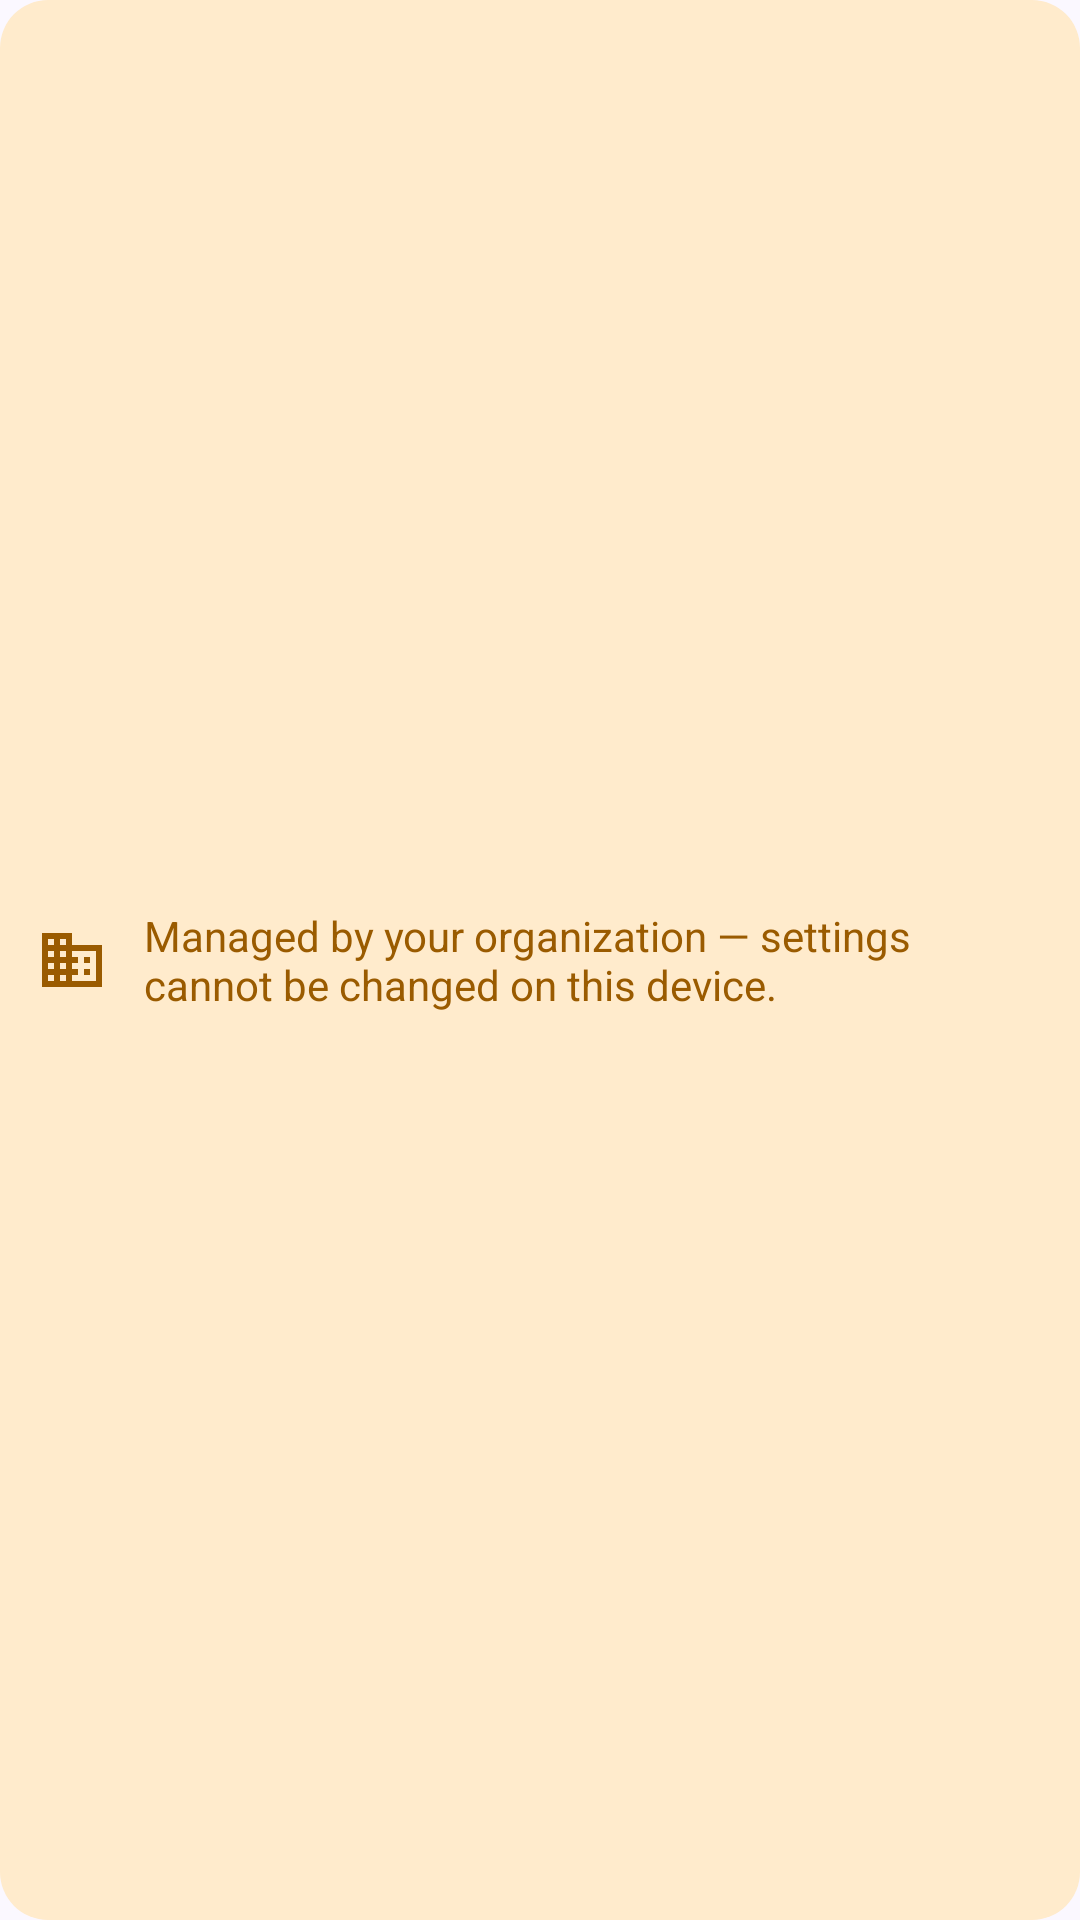

Where to tap for icons on this 1080w x 1920h app screen, as [x,y]:
business: [72,960]
